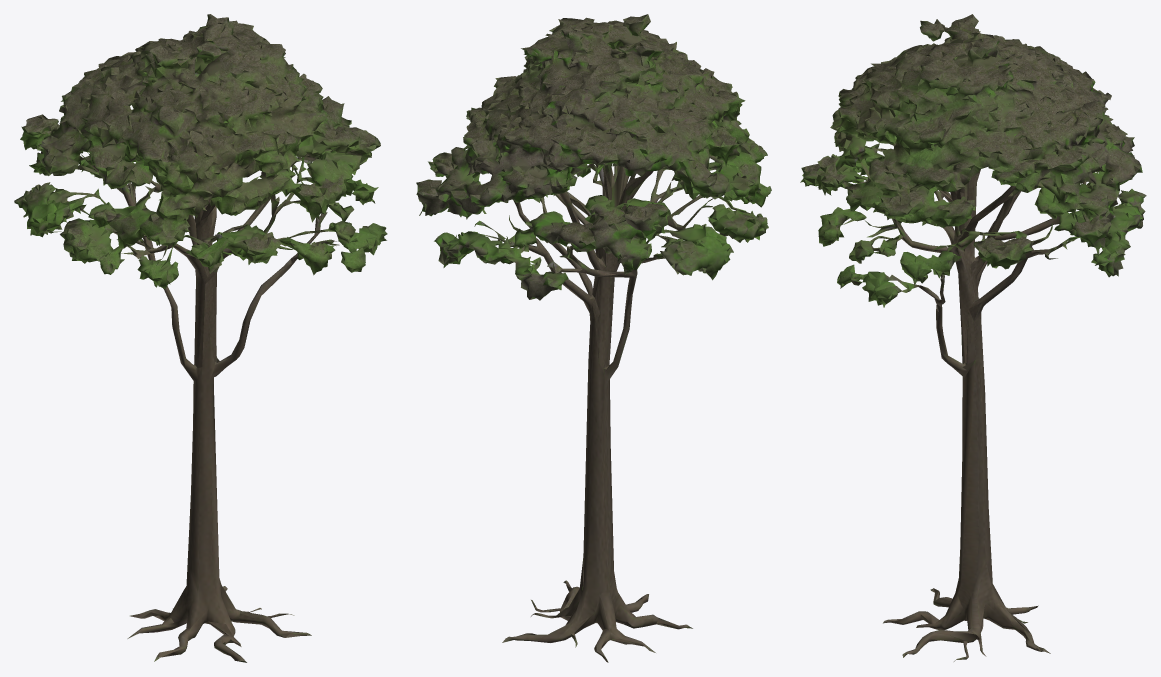
File: tree_textured_01.glb
The picture shows the model from 3 angles, left to right: view 1: azimuth 30°, elevation 25°; view 2: azimuth 150°, elevation 25°; view 3: azimuth 270°, elevation 25°; orthographic projection.
Size of the model in its own units: 1.06 by 2 by 1.05.
1 material, 1 textured.
